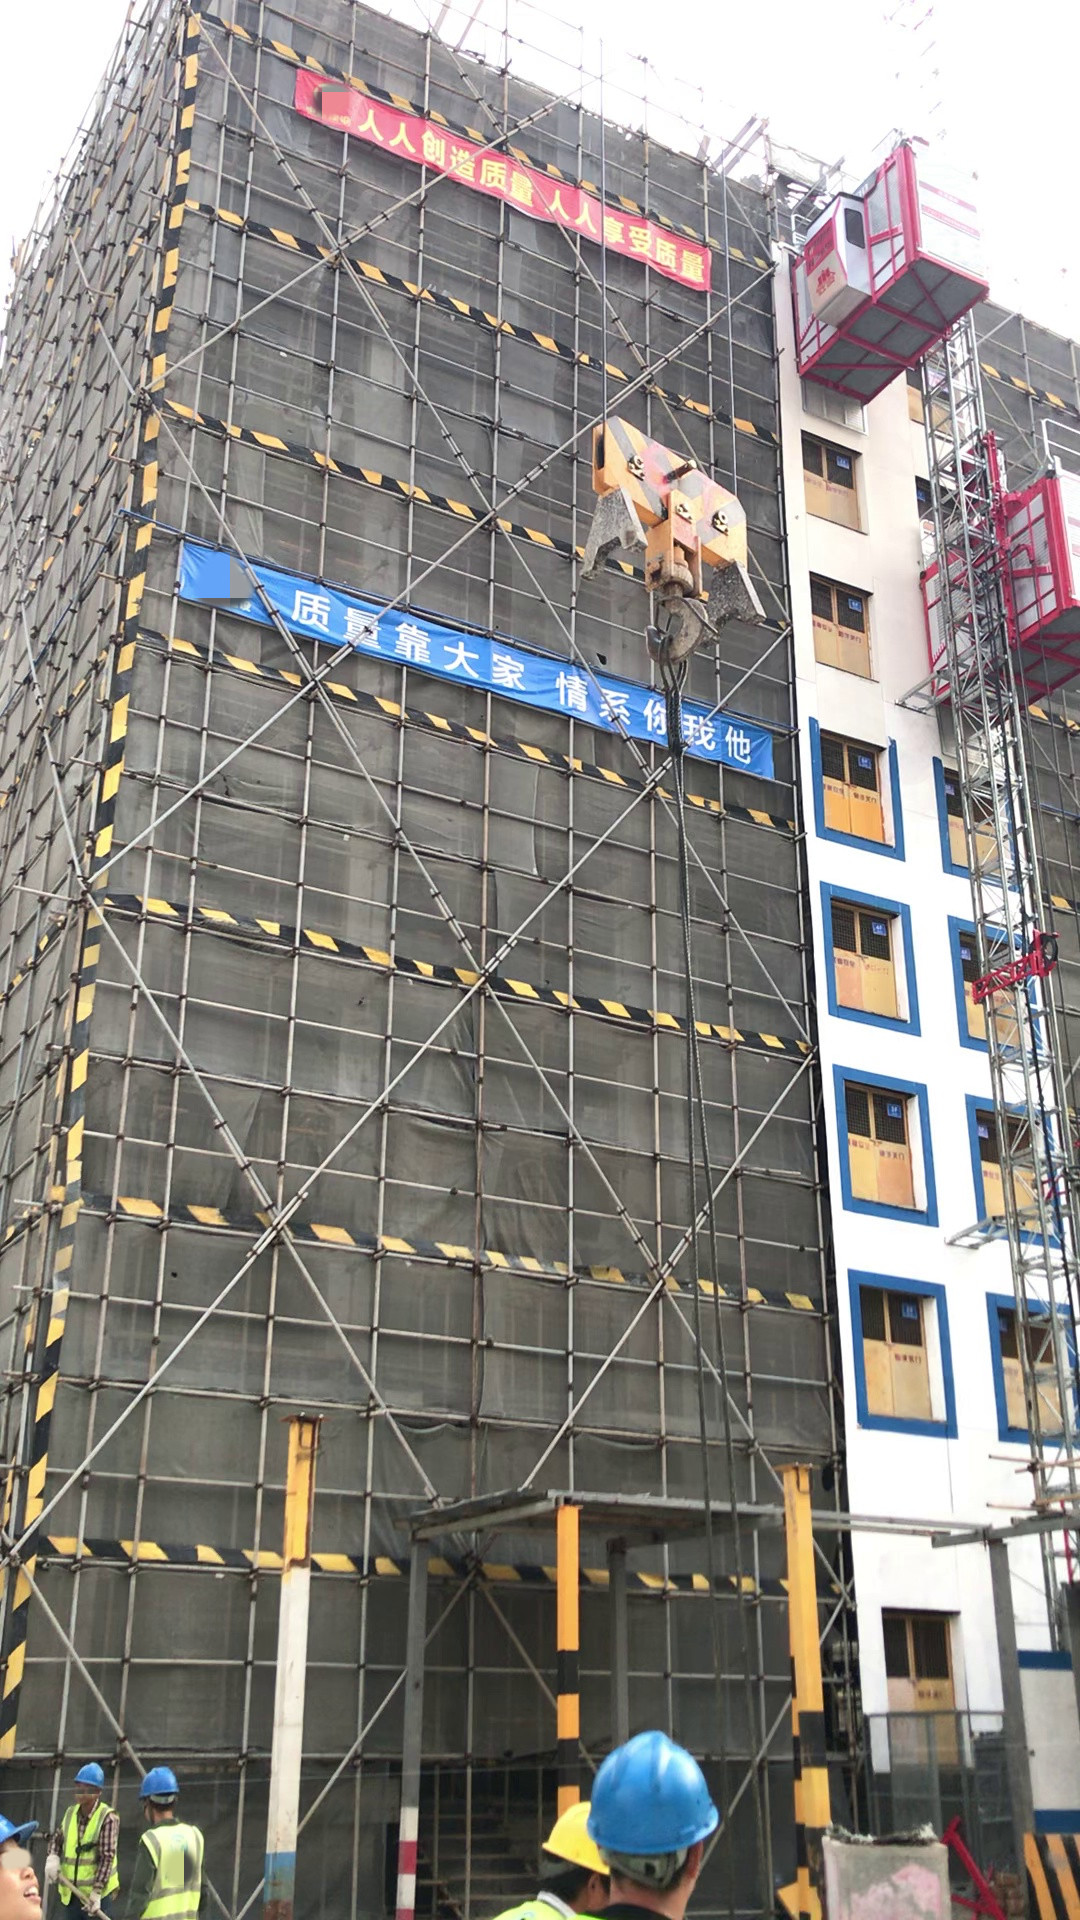helmet: (586, 1735, 716, 1847), (543, 1810, 616, 1876), (1, 1809, 48, 1853), (140, 1761, 185, 1797), (73, 1763, 110, 1791)
hook: (578, 438, 778, 661)
person: (576, 1733, 733, 1920), (118, 1761, 241, 1920), (482, 1783, 625, 1920), (40, 1755, 129, 1920), (4, 1796, 46, 1920)
slogan: (205, 547, 776, 780), (299, 59, 718, 290)
vest: (52, 1800, 116, 1903), (138, 1830, 211, 1913)
